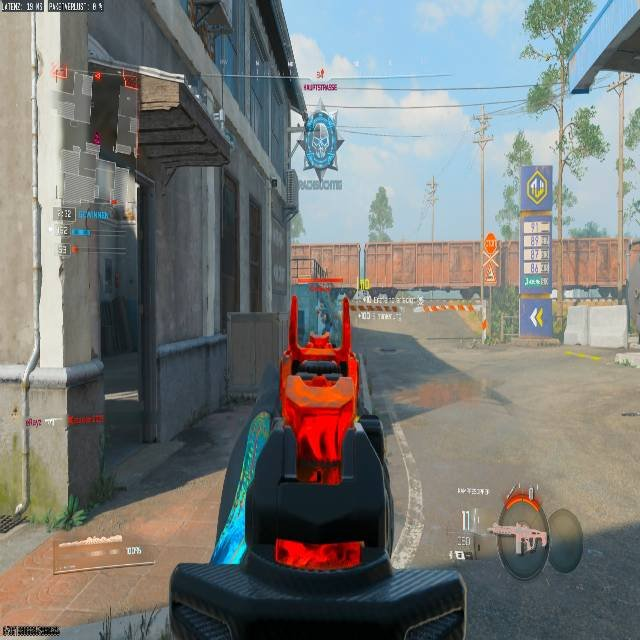head: (319, 297, 326, 305)
player: (315, 298, 331, 334)
